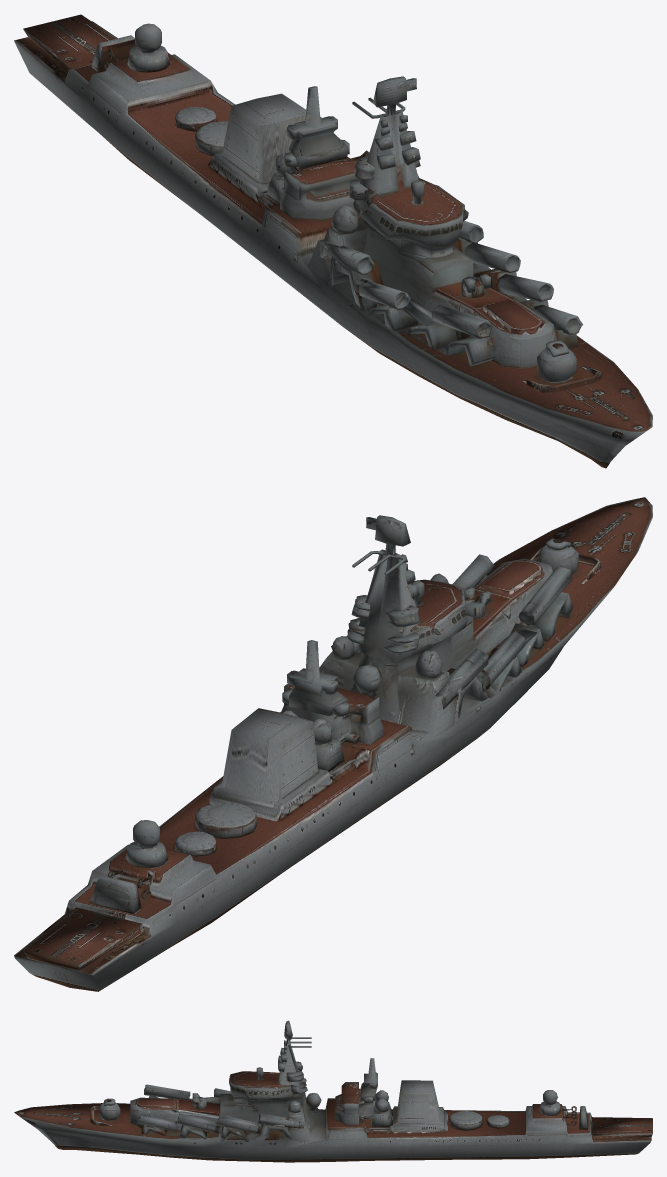
The model's file is hull_cruiser.glb.
3 views of the same model, one above another, from view 1: azimuth 30°, elevation 25°; view 2: azimuth 150°, elevation 25°; view 3: azimuth 270°, elevation 25° (orthographic). The views are drawn at different scales.
Parts seen in each view (by area): view 1: tripo_node_bef3e76e-de28-409d-851d-44ca38d51075; view 2: tripo_node_bef3e76e-de28-409d-851d-44ca38d51075; view 3: tripo_node_bef3e76e-de28-409d-851d-44ca38d51075.
Part boxes in pixels (x1,y1,x2,y2): tripo_node_bef3e76e-de28-409d-851d-44ca38d51075: [14, 14, 652, 468]; tripo_node_bef3e76e-de28-409d-851d-44ca38d51075: [14, 497, 652, 991]; tripo_node_bef3e76e-de28-409d-851d-44ca38d51075: [14, 1020, 652, 1162].
Bounding box in the file's own units: 21.62 × 38.91 × 170.
Materials: 1 (1 with a texture image).
